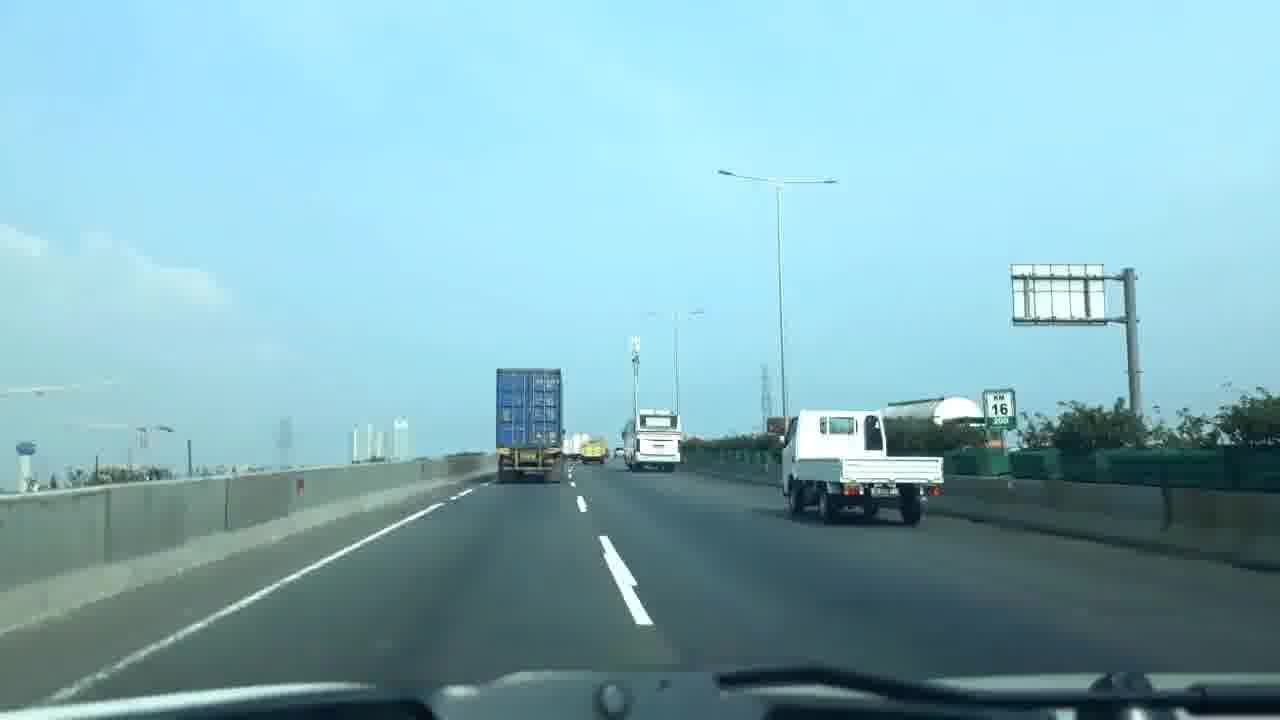plate_positive: (870, 487, 901, 498)
